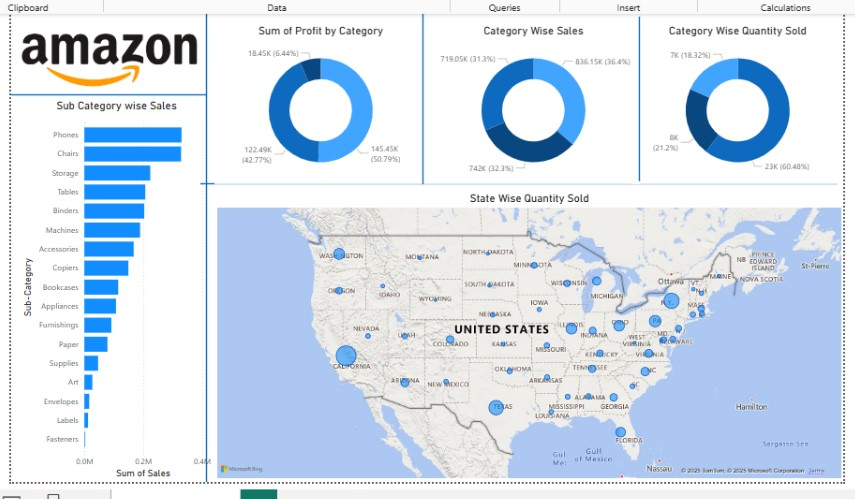

The dashboard page shown, as its layout file describes it:
{"tool":"powerbi","page":{"name":"Sales Data Report","canvas":[1280,720],"ordinal":0},"visuals":[{"type":"image","box":[11.5,24.5,279.4,93.6],"z":0},{"type":"shape","box":[0,118.1,301,13],"z":1},{"type":"clusteredBarChart","title":"Sub Category wise Sales","fields":{"Category":["Orders.Sub-Category"],"Y":["Sum(Orders.Sales)"]},"box":[11.5,131,301,589],"z":3},{"type":"shape","box":[293.8,0,13,720],"z":4},{"type":"map","title":"State Wise Quantity Sold","fields":{"Category":["Orders.State"],"Size":["Sum(Orders.Quantity)"]},"box":[312.5,273.6,967.7,446.4],"z":5},{"type":"shape","box":[290.9,254.9,979.2,13],"z":6},{"type":"donutChart","fields":{"Category":["Orders.Category"],"Y":["Sum(Orders.Profit)"]},"box":[312.5,15.8,326.9,246.2],"z":7},{"type":"donutChart","title":"Category Wise Sales","fields":{"Category":["Orders.Category"],"Y":["Sum(Orders.Sales)"]},"box":[639.4,15.8,326.9,246.2],"z":8},{"type":"donutChart","title":"Category Wise Quantity Sold","fields":{"Category":["Orders.Category"],"Y":["Sum(Orders.Quantity)"]},"box":[953.3,15.8,326.9,246.2],"z":9},{"type":"shape","box":[626.4,0,13,262.1],"z":10},{"type":"shape","box":[947.5,4.3,36,253.4],"z":11}]}

Visuals, with their boxes in screenshot pixels (x1, y1, x2, y2):
image: region(8, 21, 192, 82)
shape: region(0, 82, 198, 91)
"Sub Category wise Sales" clusteredBarChart: region(8, 91, 206, 479)
shape: region(194, 4, 202, 479)
"State Wise Quantity Sold" map: region(206, 185, 843, 479)
shape: region(192, 172, 837, 181)
donutChart - Orders.Category x Sum(Orders.Profit): region(206, 15, 421, 177)
"Category Wise Sales" donutChart: region(421, 15, 637, 177)
"Category Wise Quantity Sold" donutChart: region(628, 15, 843, 177)
shape: region(413, 4, 421, 177)
shape: region(624, 7, 648, 174)
